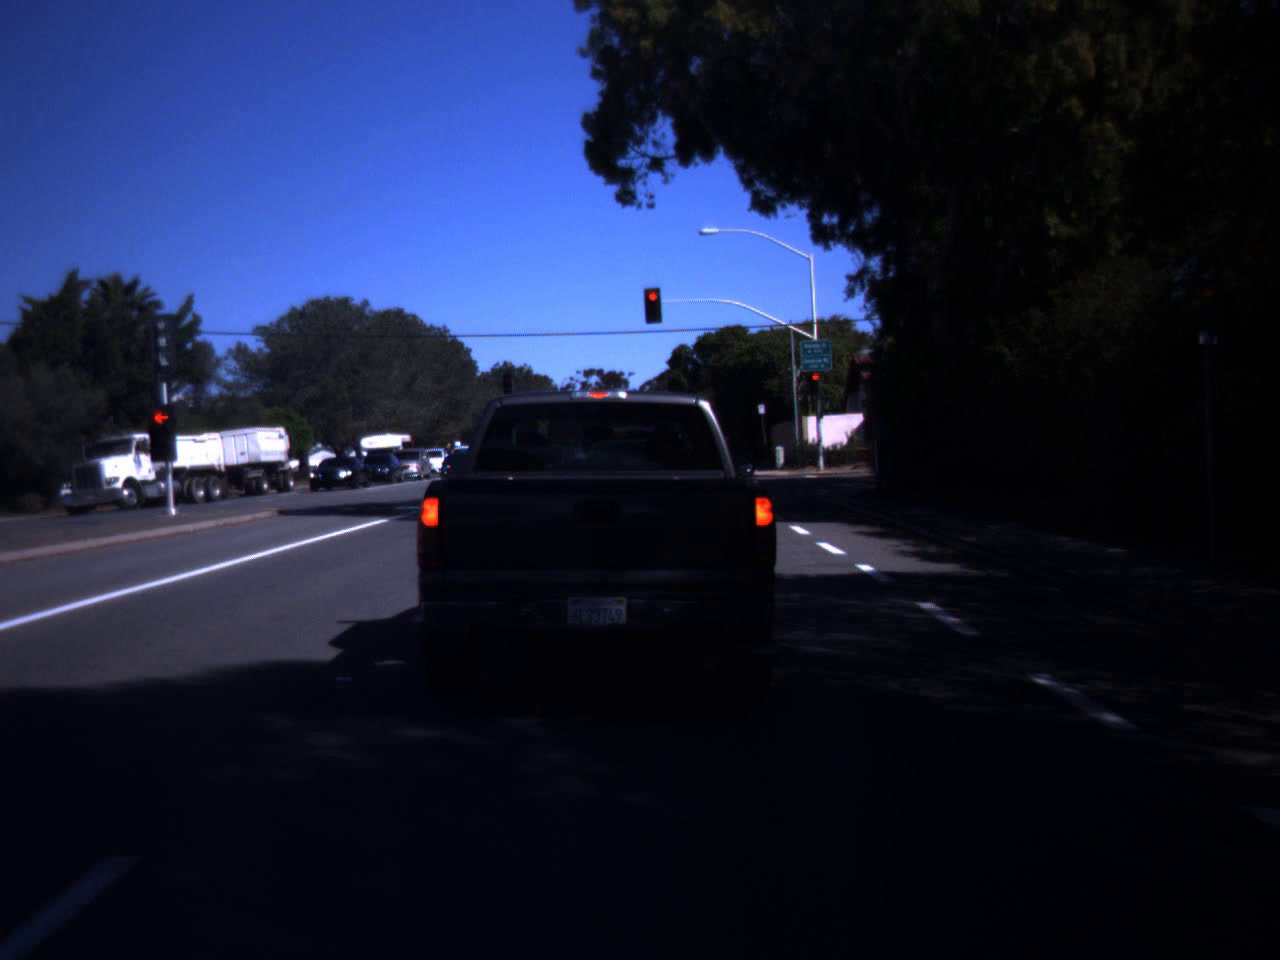stop: (142, 410, 181, 446), (644, 291, 662, 318), (810, 374, 822, 392)
